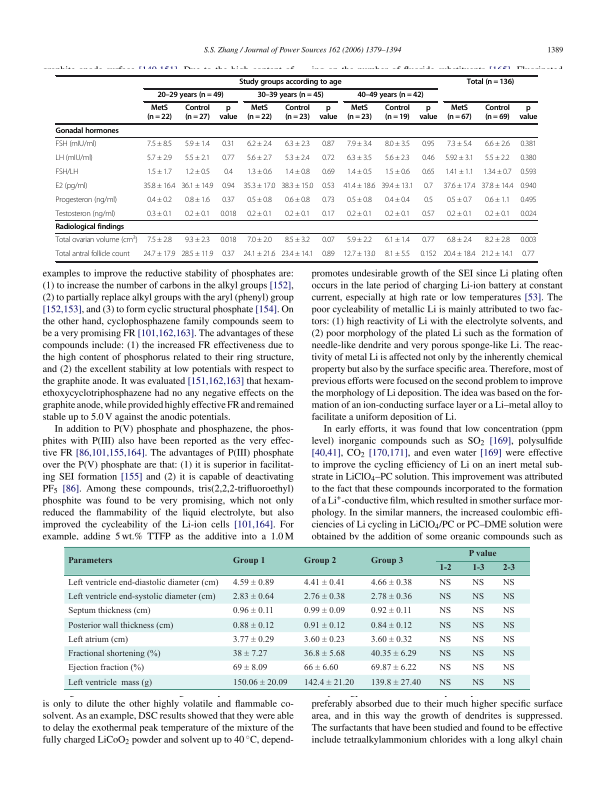borderless: (54, 74, 537, 261), (63, 545, 530, 689)
cell: (66, 578, 219, 588), (66, 592, 216, 602), (66, 621, 174, 631), (66, 649, 161, 659), (238, 78, 342, 87), (66, 606, 151, 617), (55, 234, 138, 245), (66, 678, 152, 688), (66, 663, 144, 674), (256, 91, 325, 101), (55, 250, 131, 259), (156, 91, 224, 101), (356, 91, 424, 101), (55, 126, 120, 136), (55, 195, 118, 205), (55, 223, 125, 232), (66, 635, 128, 645), (55, 209, 116, 219), (232, 678, 288, 688), (370, 663, 417, 674), (146, 104, 173, 123), (184, 104, 211, 123), (246, 104, 273, 123), (284, 104, 311, 123), (346, 104, 373, 123), (384, 104, 411, 123), (446, 104, 473, 123), (484, 104, 511, 123), (303, 678, 354, 688), (370, 678, 421, 688), (370, 649, 417, 659), (232, 606, 274, 617), (303, 606, 345, 617), (370, 606, 412, 617), (67, 557, 113, 567), (466, 78, 515, 87), (232, 578, 274, 588), (303, 578, 345, 588), (370, 578, 412, 588), (232, 592, 274, 602), (303, 592, 345, 602), (370, 592, 412, 602), (232, 621, 274, 631), (303, 621, 345, 631), (370, 621, 412, 631), (232, 635, 274, 645), (303, 635, 345, 645), (370, 635, 412, 645), (303, 649, 345, 659), (55, 139, 97, 149), (232, 663, 268, 674), (303, 663, 339, 674), (55, 153, 94, 163), (318, 104, 338, 123), (418, 104, 438, 123), (518, 104, 538, 123), (219, 104, 238, 123), (232, 649, 268, 659), (369, 557, 404, 567), (232, 557, 266, 567), (303, 557, 337, 567), (142, 181, 176, 191), (180, 181, 214, 191), (242, 181, 276, 191), (280, 181, 314, 191), (342, 181, 376, 191), (380, 181, 414, 191), (442, 181, 476, 191), (480, 181, 514, 191), (55, 181, 88, 191), (444, 167, 475, 177), (482, 167, 513, 177), (142, 250, 176, 259), (180, 250, 214, 259), (242, 250, 276, 259), (280, 250, 314, 259), (342, 250, 376, 259), (442, 250, 476, 259), (480, 250, 514, 259), (467, 550, 497, 560), (444, 153, 474, 163), (146, 139, 173, 149), (184, 139, 211, 149), (246, 139, 273, 149), (284, 139, 311, 149), (346, 139, 373, 149), (384, 139, 411, 149), (446, 139, 473, 149), (484, 139, 511, 149), (146, 153, 173, 163), (184, 153, 211, 163), (246, 153, 273, 163), (284, 153, 311, 163), (346, 153, 373, 163), (384, 153, 411, 163), (484, 153, 511, 163), (146, 167, 173, 177), (184, 167, 211, 177), (246, 167, 273, 177), (284, 167, 311, 177), (346, 167, 373, 177), (384, 167, 411, 177), (146, 195, 173, 205), (184, 195, 211, 205), (246, 195, 273, 205), (284, 195, 311, 205), (346, 195, 373, 205), (384, 195, 411, 205), (446, 195, 473, 205), (484, 195, 511, 205), (146, 209, 173, 219), (184, 209, 211, 219), (246, 209, 273, 219), (284, 209, 311, 219), (346, 209, 373, 219), (384, 209, 411, 219), (446, 209, 473, 219), (484, 209, 511, 219), (146, 236, 173, 245), (184, 236, 211, 245), (246, 236, 273, 245), (284, 236, 311, 245), (346, 236, 373, 245), (384, 236, 411, 245), (446, 236, 473, 245), (484, 236, 511, 245), (384, 250, 411, 259), (55, 167, 79, 177), (519, 139, 537, 149), (519, 153, 537, 163), (519, 167, 537, 177), (519, 181, 537, 191), (519, 195, 537, 205), (219, 209, 237, 219), (519, 209, 537, 219), (219, 236, 237, 245), (519, 236, 537, 245), (419, 250, 437, 259), (438, 606, 452, 617), (471, 606, 485, 617), (438, 663, 452, 674), (471, 663, 485, 674), (221, 139, 236, 149), (321, 139, 336, 149), (321, 167, 336, 177), (421, 167, 436, 177), (321, 181, 336, 191), (221, 195, 236, 205), (321, 195, 336, 205), (321, 209, 336, 219), (502, 606, 515, 617), (502, 663, 515, 674), (438, 564, 452, 574), (471, 564, 485, 574), (501, 564, 515, 574), (438, 578, 452, 588), (471, 578, 485, 588), (438, 592, 452, 602), (471, 592, 485, 602), (438, 621, 452, 631), (471, 621, 485, 631), (438, 635, 452, 645), (471, 635, 485, 645), (438, 649, 452, 659), (471, 649, 485, 659), (438, 678, 452, 688), (471, 678, 485, 688), (421, 139, 435, 149), (221, 153, 235, 163), (321, 153, 335, 163), (421, 153, 435, 163), (221, 181, 235, 191), (421, 209, 435, 219), (321, 236, 336, 245), (321, 250, 336, 259), (502, 578, 515, 588), (502, 592, 515, 602), (502, 621, 515, 631), (502, 635, 515, 645), (502, 649, 515, 659), (502, 678, 515, 688), (421, 236, 435, 245), (221, 250, 235, 259), (521, 250, 535, 259), (223, 167, 234, 177), (423, 181, 434, 191), (423, 195, 434, 205)
